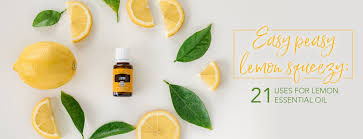lemon: (10, 34, 82, 100)
